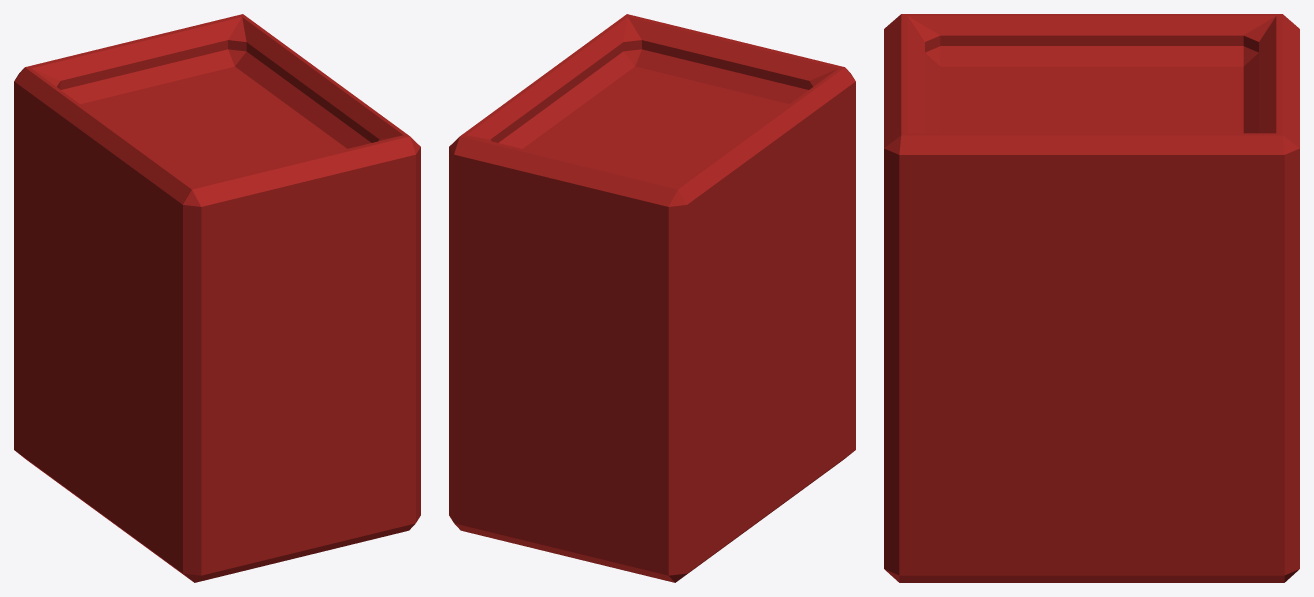
Rendered from Bidon.fbx.
3 renders of one model, left to right at view 1: azimuth 30°, elevation 25°; view 2: azimuth 150°, elevation 25°; view 3: azimuth 270°, elevation 25°, orthographic. The views are drawn at different scales.
Parts seen in each view (by area): view 1: Cube; view 2: Cube; view 3: Cube.
Boxes of the visible parts, bbox=[...] form: Cube: bbox=[14, 14, 420, 582]; Cube: bbox=[449, 14, 855, 582]; Cube: bbox=[884, 14, 1299, 582].
Size of the model in its own units: 200 by 316 by 265.
